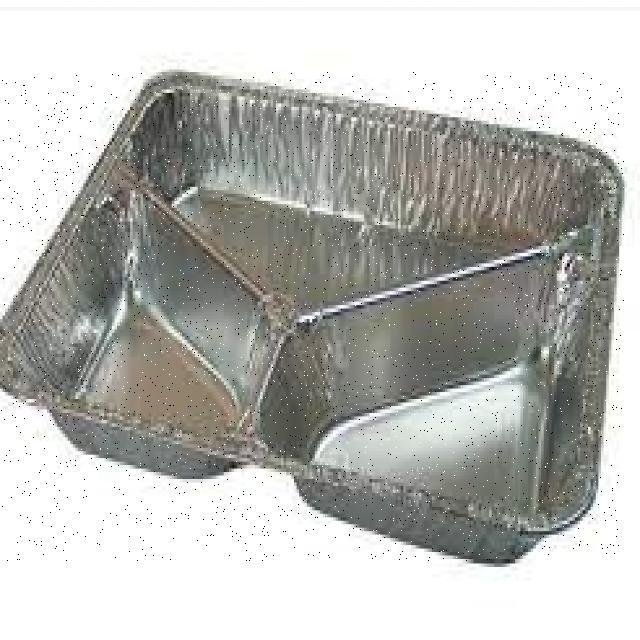metal: (0, 73, 624, 561)
